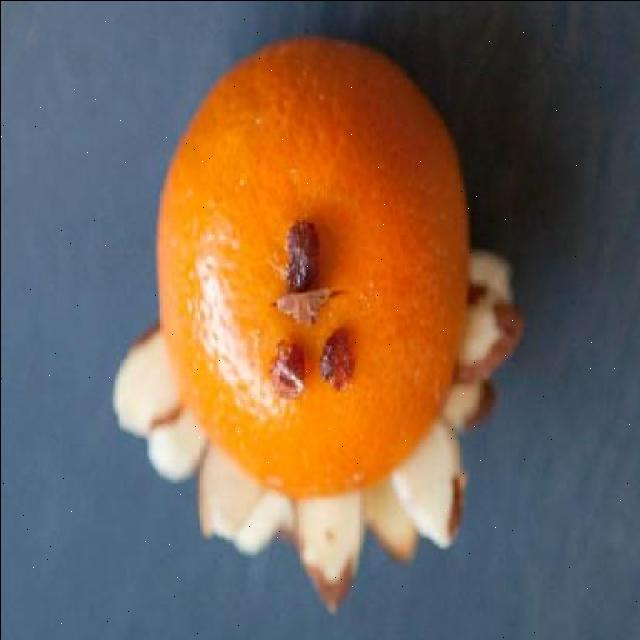Orange: (154, 36, 472, 502)
